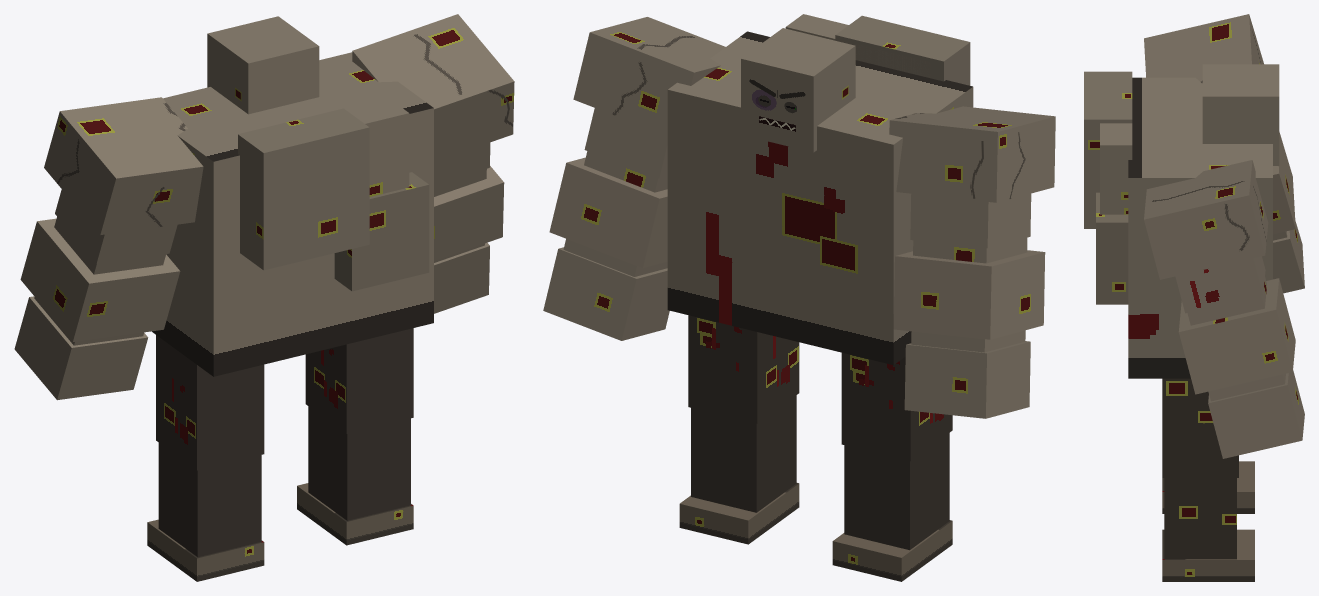
Rendered from mon_zombie_hulk.glb.
3 renders of one model, left to right at view 1: azimuth 30°, elevation 25°; view 2: azimuth 150°, elevation 25°; view 3: azimuth 270°, elevation 25°, orthographic. The views are drawn at different scales.
Parts seen in each view (by area): view 1: block_torso, block_lump-back, block_muscle.L, block_muscle.R, block_fore-lump.L, block_thigh.L, block_shin.L, block_shin.R, block_thigh.R, block_head, block_hand.L, block_lump-back2 (+9 smaller); view 2: block_torso, block_muscle.L, block_fore-lump.L, block_head, block_muscle.R, block_shin.R, block_shin.L, block_thigh.R, block_fore-lump.R, block_hand.L, block_hand.R, block_thigh.L (+8 smaller); view 3: block_torso, block_muscle.R, block_fore-lump.R, block_head, block_shin.R, block_thigh.R, block_hand.R, block_muscle.L, block_lump-back, block_upper_arm.R, block_lump-back2, block_hump (+5 smaller).
Boxes of the visible parts, x1=… form: block_torso: x1=152, y1=52, x2=433, y2=376; block_lump-back: x1=238, y1=108, x2=369, y2=270; block_muscle.L: x1=44, y1=97, x2=203, y2=234; block_muscle.R: x1=352, y1=14, x2=514, y2=161; block_fore-lump.L: x1=20, y1=218, x2=180, y2=341; block_thigh.L: x1=156, y1=335, x2=264, y2=470; block_shin.L: x1=158, y1=443, x2=261, y2=557; block_shin.R: x1=308, y1=406, x2=410, y2=520; block_thigh.R: x1=305, y1=328, x2=413, y2=433; block_head: x1=207, y1=16, x2=319, y2=114; block_hand.L: x1=14, y1=296, x2=148, y2=400; block_lump-back2: x1=334, y1=172, x2=429, y2=291; block_torso: x1=667, y1=31, x2=973, y2=365; block_muscle.L: x1=889, y1=106, x2=1055, y2=202; block_fore-lump.L: x1=893, y1=250, x2=1045, y2=339; block_head: x1=741, y1=28, x2=855, y2=152; block_muscle.R: x1=573, y1=17, x2=725, y2=135; block_shin.R: x1=691, y1=395, x2=796, y2=512; block_shin.L: x1=844, y1=433, x2=949, y2=550; block_thigh.R: x1=688, y1=315, x2=799, y2=423; block_fore-lump.R: x1=549, y1=157, x2=667, y2=267; block_hand.L: x1=904, y1=341, x2=1030, y2=418; block_hand.R: x1=543, y1=247, x2=669, y2=340; block_thigh.L: x1=841, y1=352, x2=952, y2=461; block_torso: x1=1128, y1=77, x2=1272, y2=378; block_muscle.R: x1=1144, y1=160, x2=1268, y2=279; block_fore-lump.R: x1=1178, y1=278, x2=1295, y2=394; block_head: x1=1202, y1=64, x2=1279, y2=165; block_shin.R: x1=1164, y1=478, x2=1236, y2=559; block_thigh.R: x1=1162, y1=378, x2=1238, y2=477; block_hand.R: x1=1208, y1=370, x2=1304, y2=458; block_muscle.L: x1=1144, y1=14, x2=1263, y2=83; block_lump-back: x1=1084, y1=71, x2=1132, y2=228; block_upper_arm.R: x1=1175, y1=256, x2=1265, y2=313; block_lump-back2: x1=1096, y1=192, x2=1128, y2=304; block_hump: x1=1100, y1=123, x2=1132, y2=214.
Bounding box in the file's own units: 2.31 × 2.48 × 1.1.
Materials: 1 (1 with a texture image).
